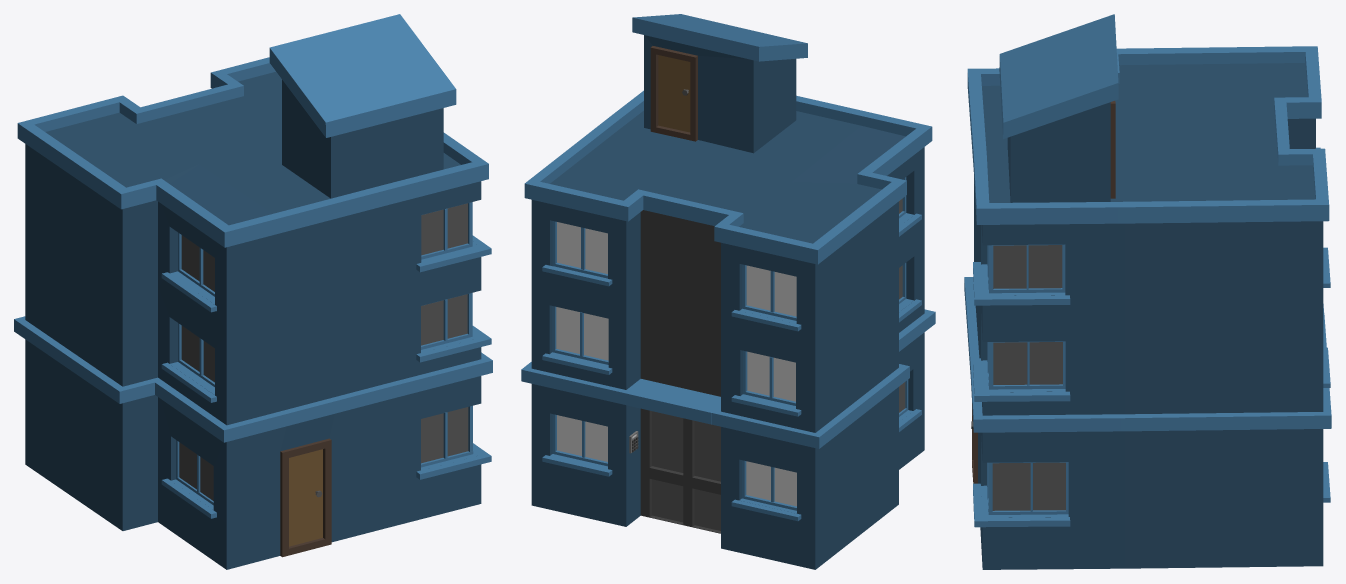
The model's file is Building E Blue.fbx.
The picture shows the model from 3 angles, left to right: view 1: azimuth 30°, elevation 25°; view 2: azimuth 150°, elevation 25°; view 3: azimuth 270°, elevation 25°; orthographic projection. The views are drawn at different scales.
Visible parts, largest first — view 1: Building E Blue.001; view 2: Building E Blue.001; view 3: Building E Blue.001.
Part boxes in pixels (x1,y1,x2,y2): Building E Blue.001: (14,14,492,569); Building E Blue.001: (521,14,935,569); Building E Blue.001: (964,14,1331,569).
Size of the model in its own units: 803 by 754 by 1084.
